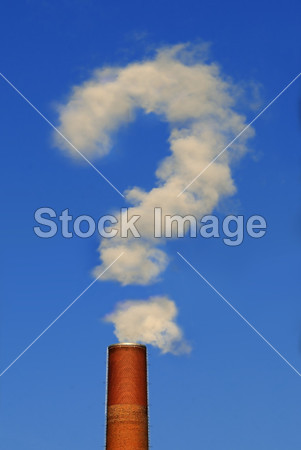dust: (86, 295, 190, 356)
